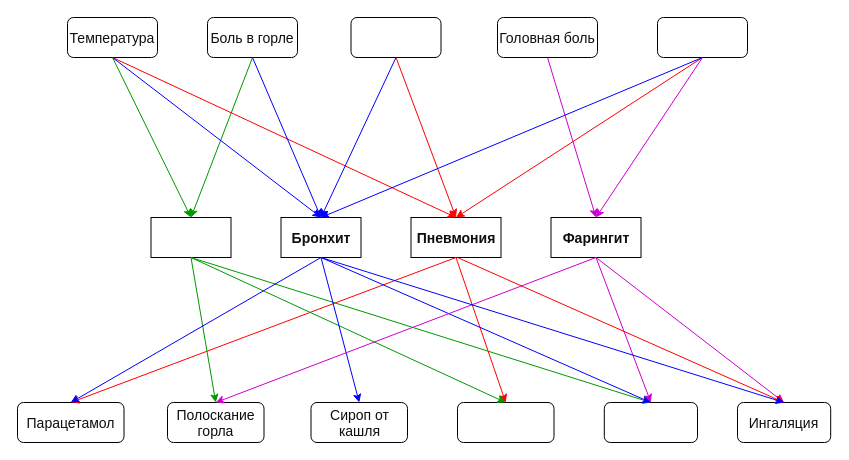
Image size: 849x460. Some labels were removed from this diagram. Here are the shapes that lost their labels. From the top down, the centre of each, then its label:
At [395,37]: "Затрудненное дыхание".
At [702,37]: "Кашель".
At [190,237]: "Ангина".
At [505,422]: "Антибиотик".
At [650,422]: "Чай с медом".
